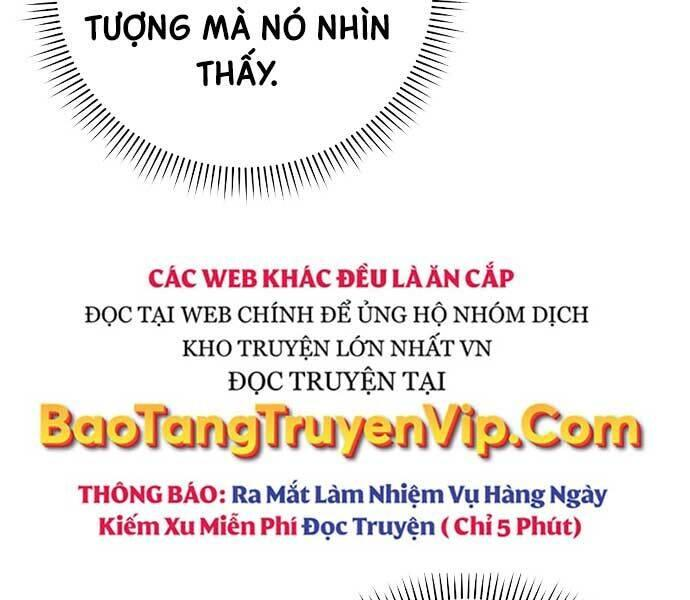quangcao: (38, 262, 646, 544)
